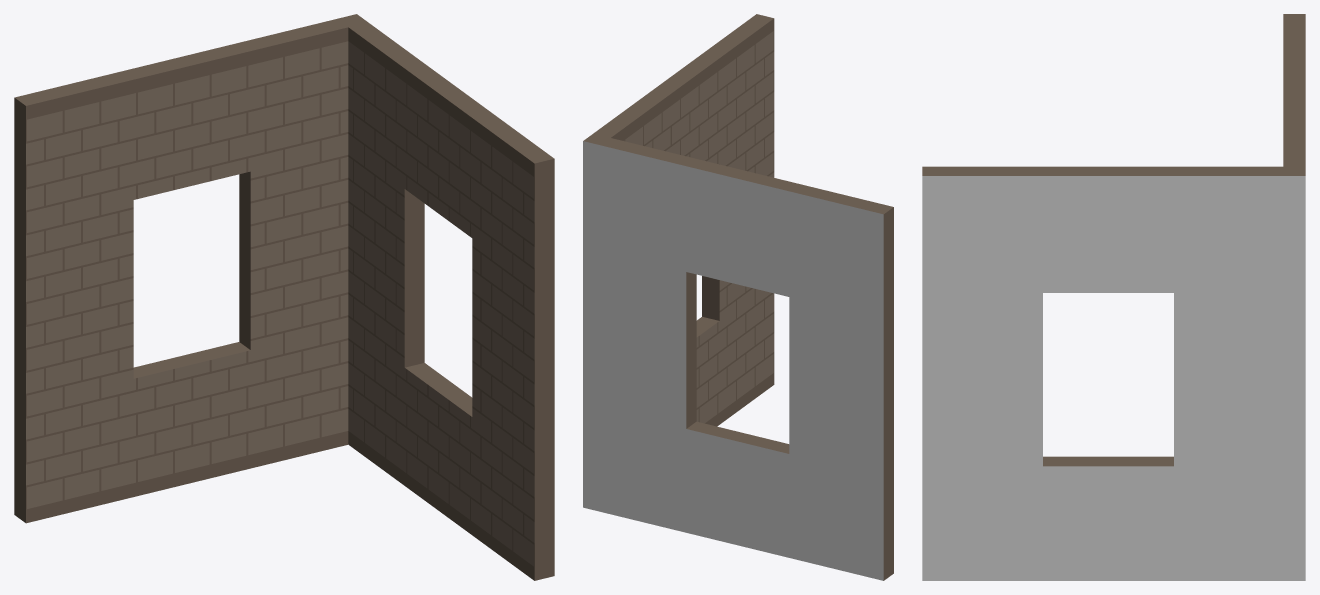
The model's file is Wall1_C10_09.fbx.
3 renders of one model, left to right at view 1: azimuth 30°, elevation 25°; view 2: azimuth 150°, elevation 25°; view 3: azimuth 270°, elevation 25°, orthographic. The views are drawn at different scales.
Visible parts, largest first — view 1: Wall1_C10_09; view 2: Wall1_C10_09; view 3: Wall1_C10_09.
Boxes of the visible parts, bbox=[...] form: Wall1_C10_09: bbox=[14, 14, 554, 580]; Wall1_C10_09: bbox=[583, 14, 893, 580]; Wall1_C10_09: bbox=[922, 14, 1305, 580].
Bounding box in the file's own units: 258 × 300 × 258.
